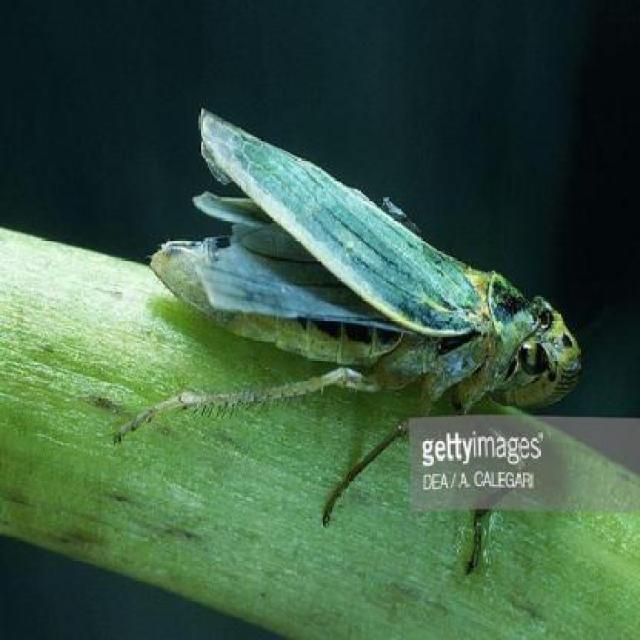green-leafhopper: (146, 118, 580, 452)
